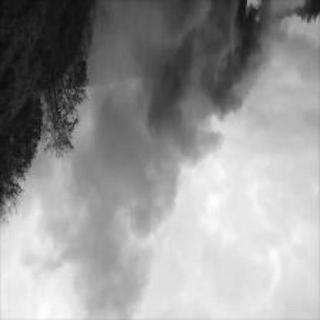Fire: (237, 3, 267, 27)
Smoke: (64, 32, 264, 222)
